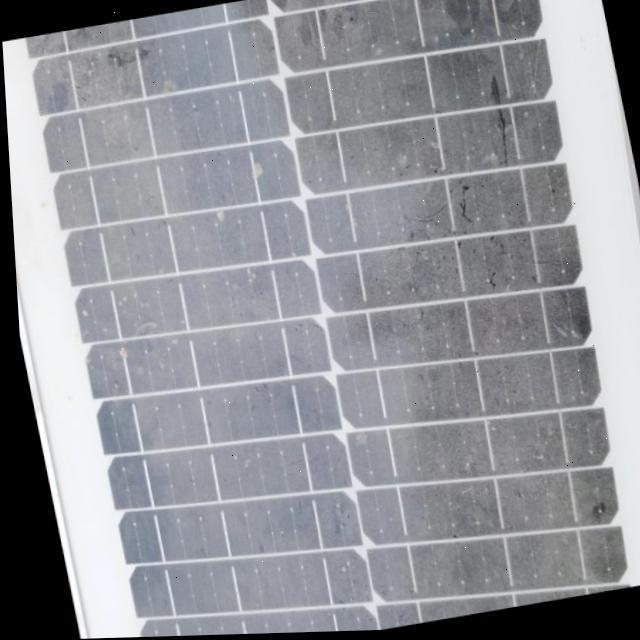Surface Contaminant: (2, 0, 640, 638)
